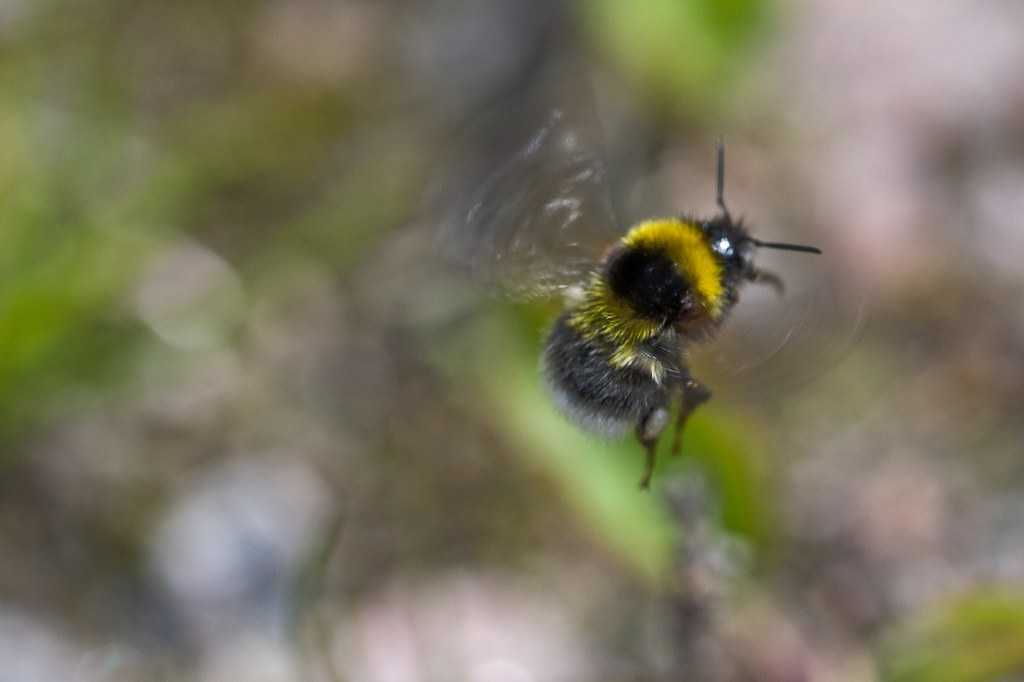bee: (435, 38, 883, 498)
